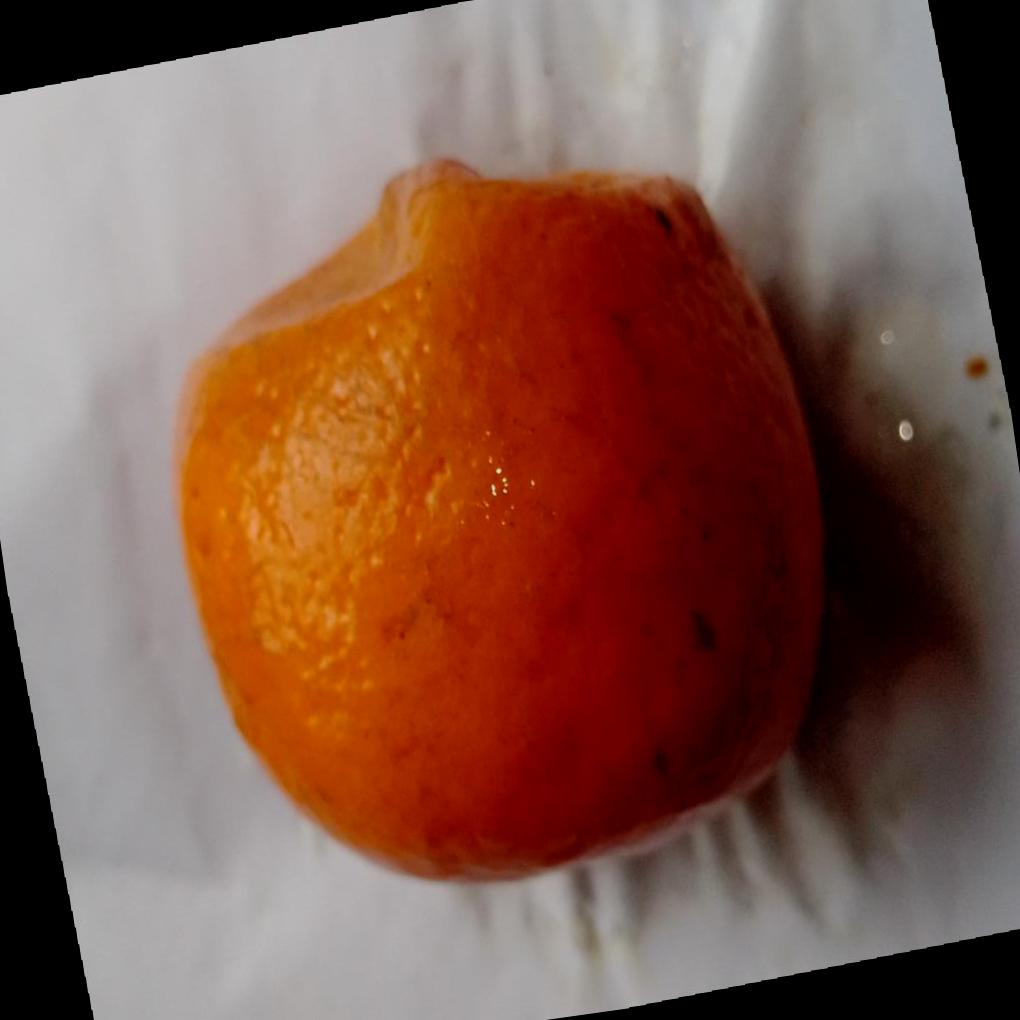FreshOrange: (168, 156, 825, 888)
